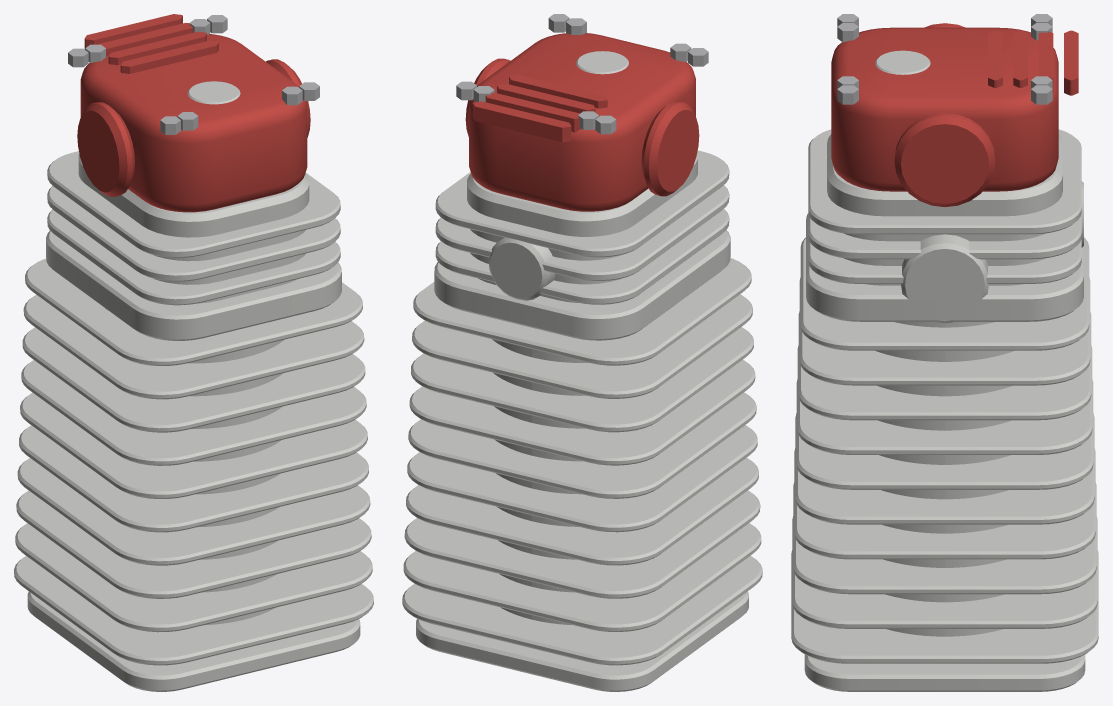
The model's file is hot_cam_2.glb.
3 renders of one model, left to right at view 1: azimuth 30°, elevation 25°; view 2: azimuth 150°, elevation 25°; view 3: azimuth 270°, elevation 25°, orthographic. The views are drawn at different scales.
Parts seen in each view (by area): view 1: lod0; view 2: lod0; view 3: lod0.
Part boxes in pixels (x1=…): lod0: x1=14, y1=14, x2=373, y2=691; lod0: x1=402, y1=14, x2=762, y2=691; lod0: x1=791, y1=14, x2=1098, y2=691.
Size of what is drawn, in the model's own units: 0.146 by 0.3043 by 0.146.
